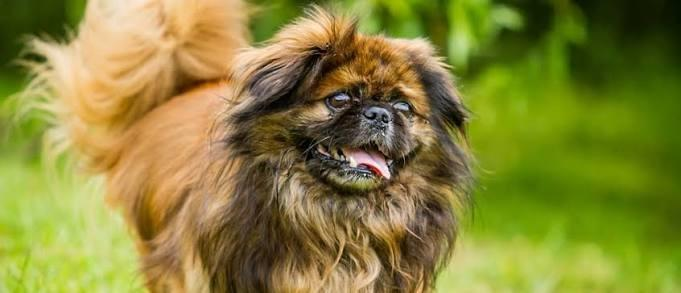adult_dog: (11, 1, 476, 293)
